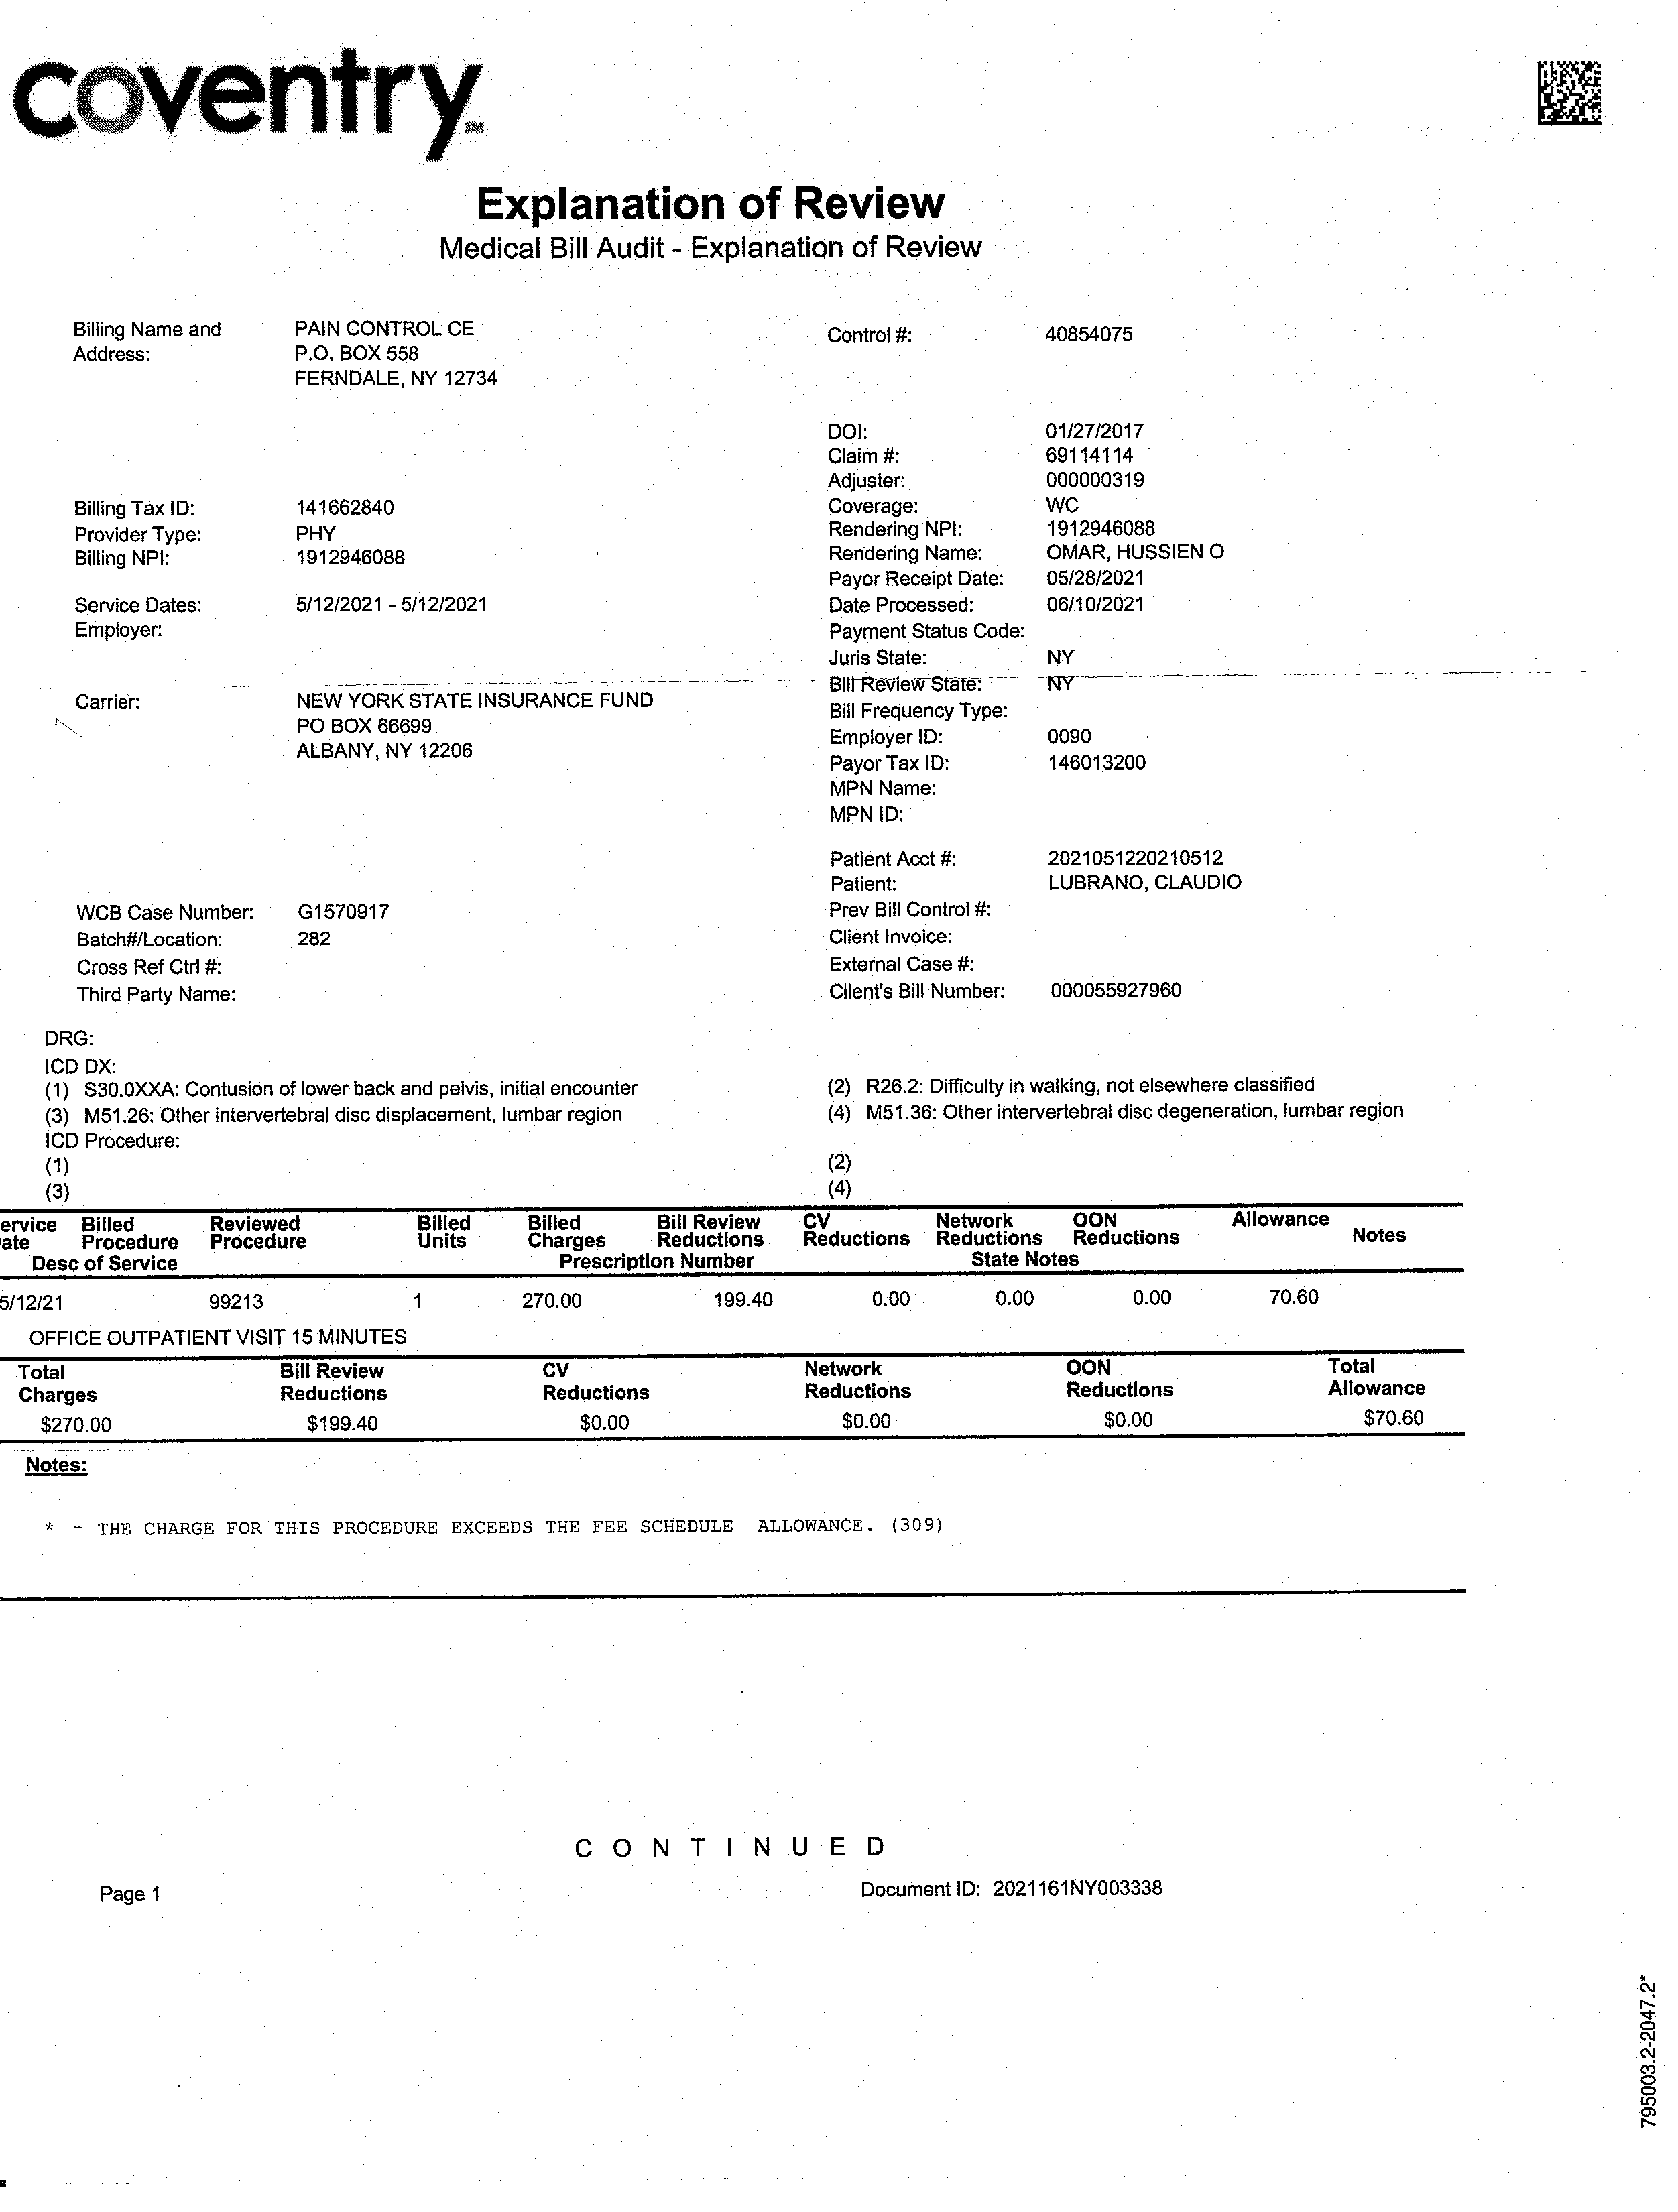data: (816, 405, 1280, 1019), (56, 490, 516, 657), (56, 672, 684, 793), (53, 293, 520, 419), (809, 308, 1162, 365)
table: (12, 1202, 1496, 1320), (2, 1348, 1496, 1461)
